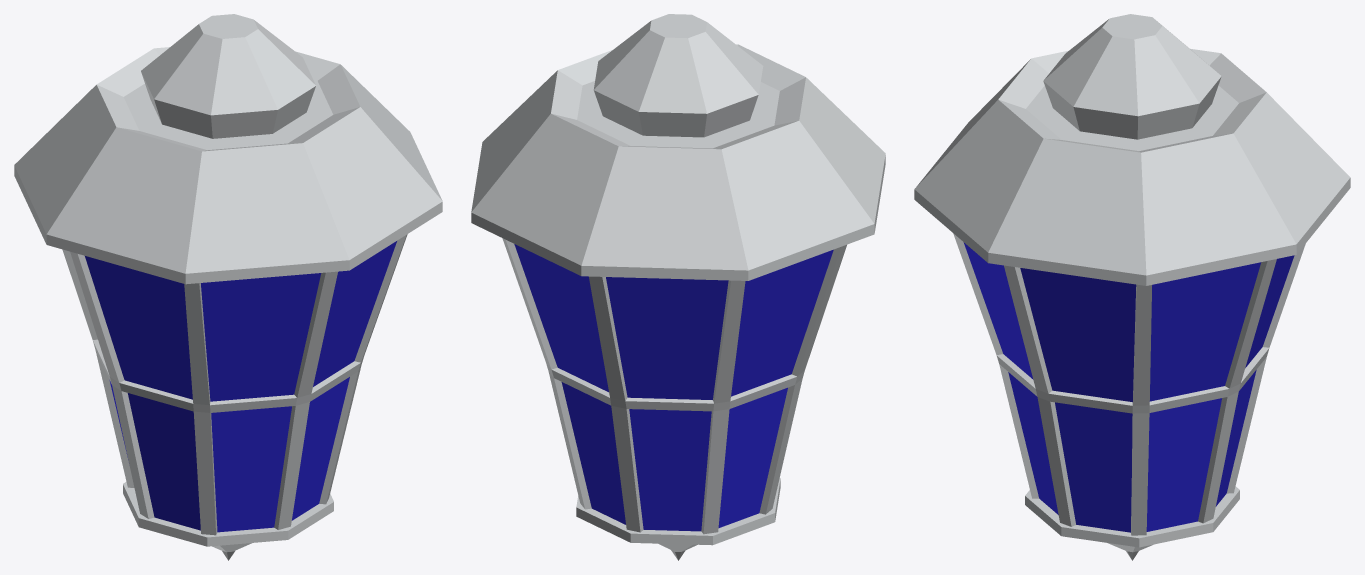
File: (Msh)Horror_Lantern.fbx
3 renders of one model, left to right at view 1: azimuth 30°, elevation 25°; view 2: azimuth 150°, elevation 25°; view 3: azimuth 270°, elevation 25°, orthographic.
Visible parts, largest first — view 1: lantern; view 2: lantern; view 3: lantern.
Part boxes in pixels (left/top/right/bottom): lantern: left=14, top=14, right=442, bottom=560; lantern: left=471, top=14, right=885, bottom=560; lantern: left=914, top=14, right=1350, bottom=560.
Size of the model in its own units: 460 by 622 by 460.
